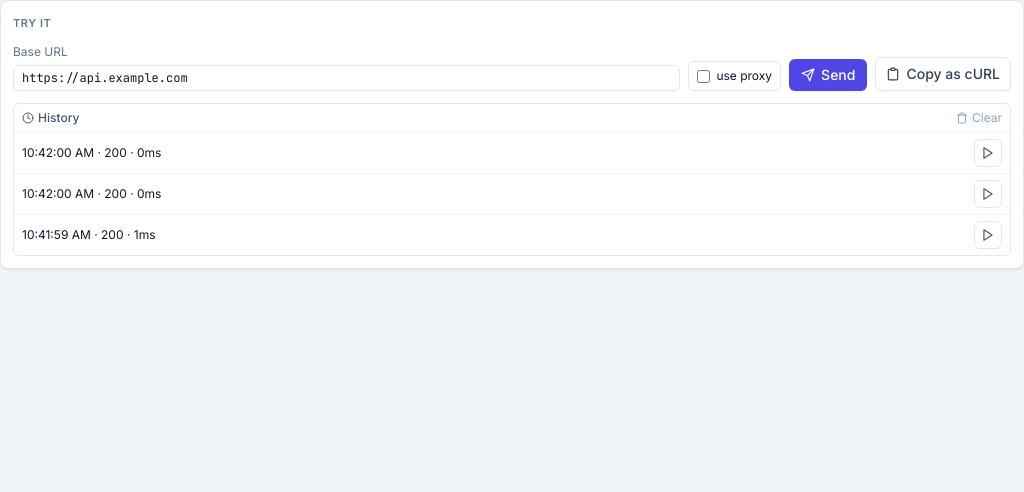
path not found: renders amber warning with path not found
This screenshot has width=1024, height=492.
Click the button "Send" at (828, 75), box [789,59,867,91]
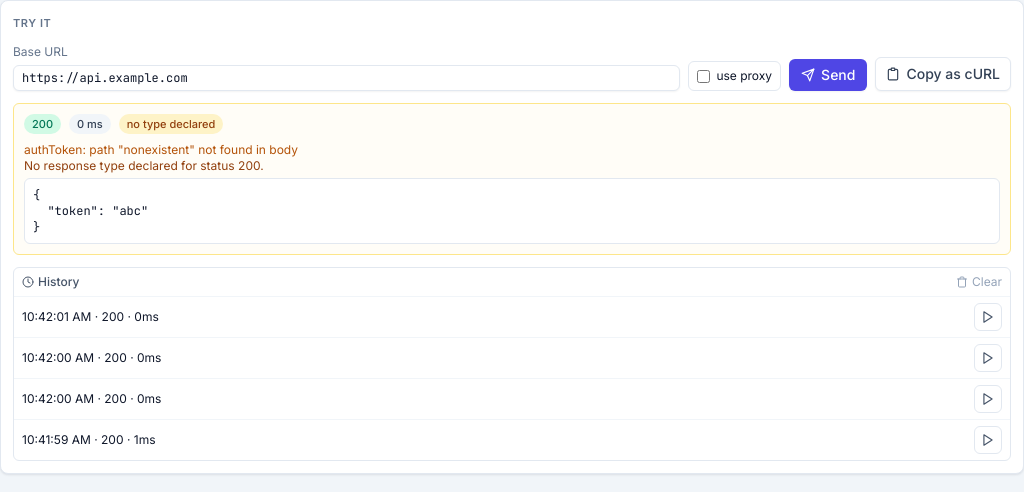
Check: the text "authToken: path \"nonexistent\" not found in body" is shown, box [24,142,298,157]
